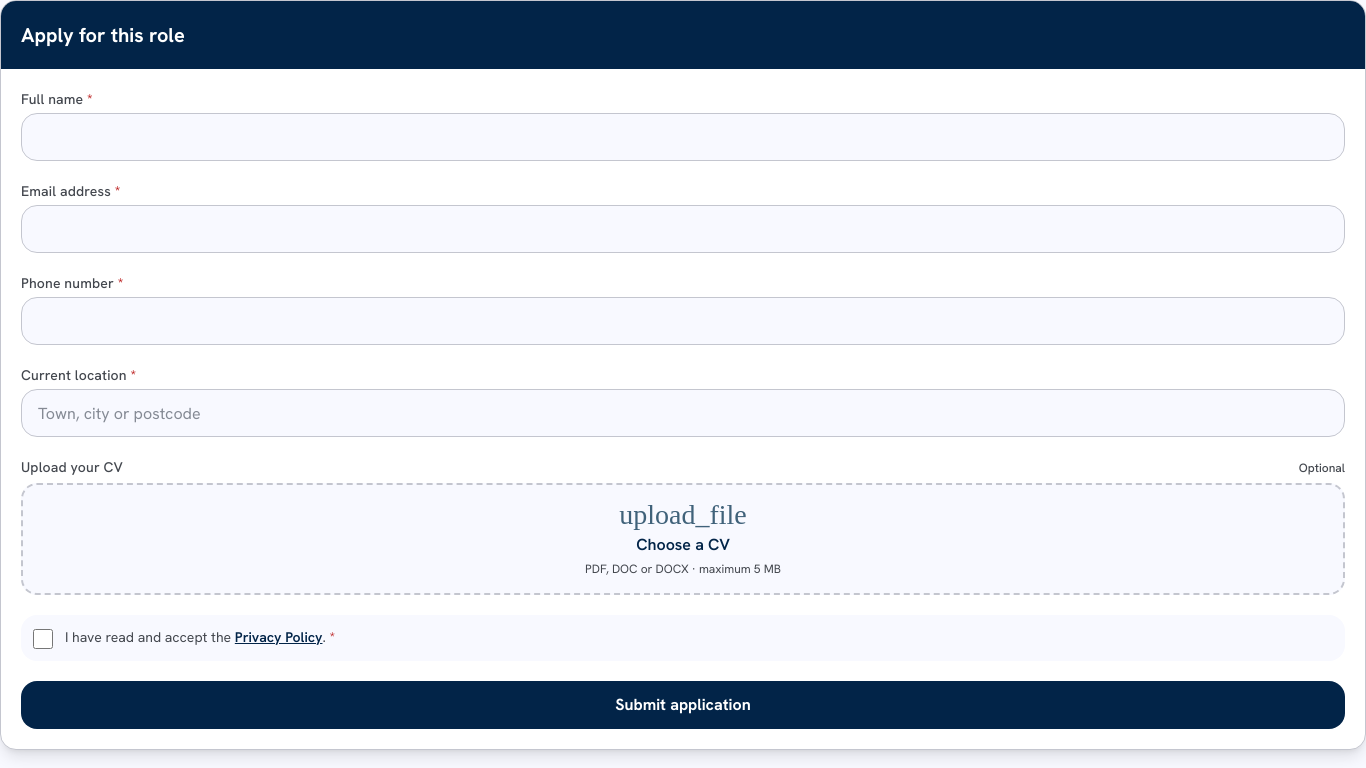
it: GuestApplicationForm › submits successfully and shows the reference confirmation
This screenshot has width=1366, height=768.
Type "Jane Doe" into the field labelled "Full name *" at (683, 137), box [21,113,1345,161]
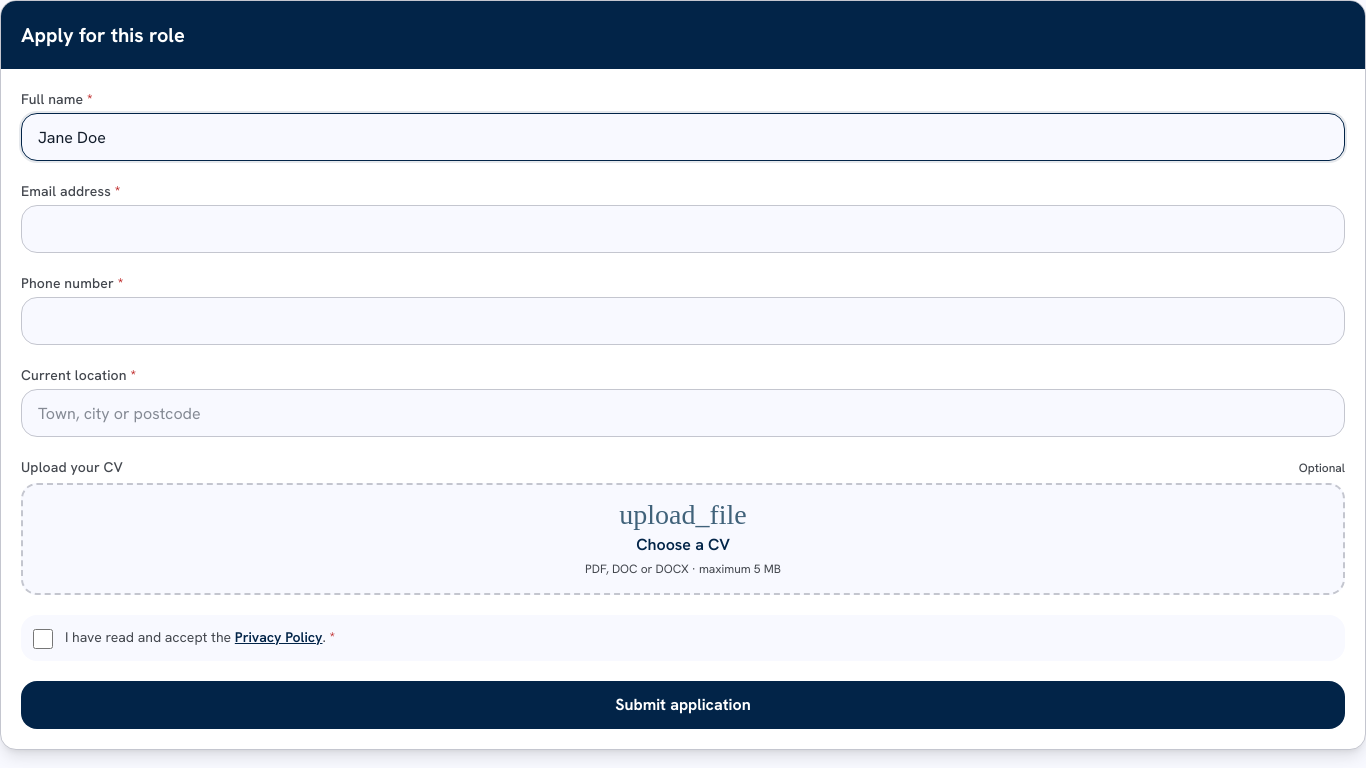
Type "jane@example.com" into the field labelled "Email address *" at (683, 229), box [21,205,1345,253]
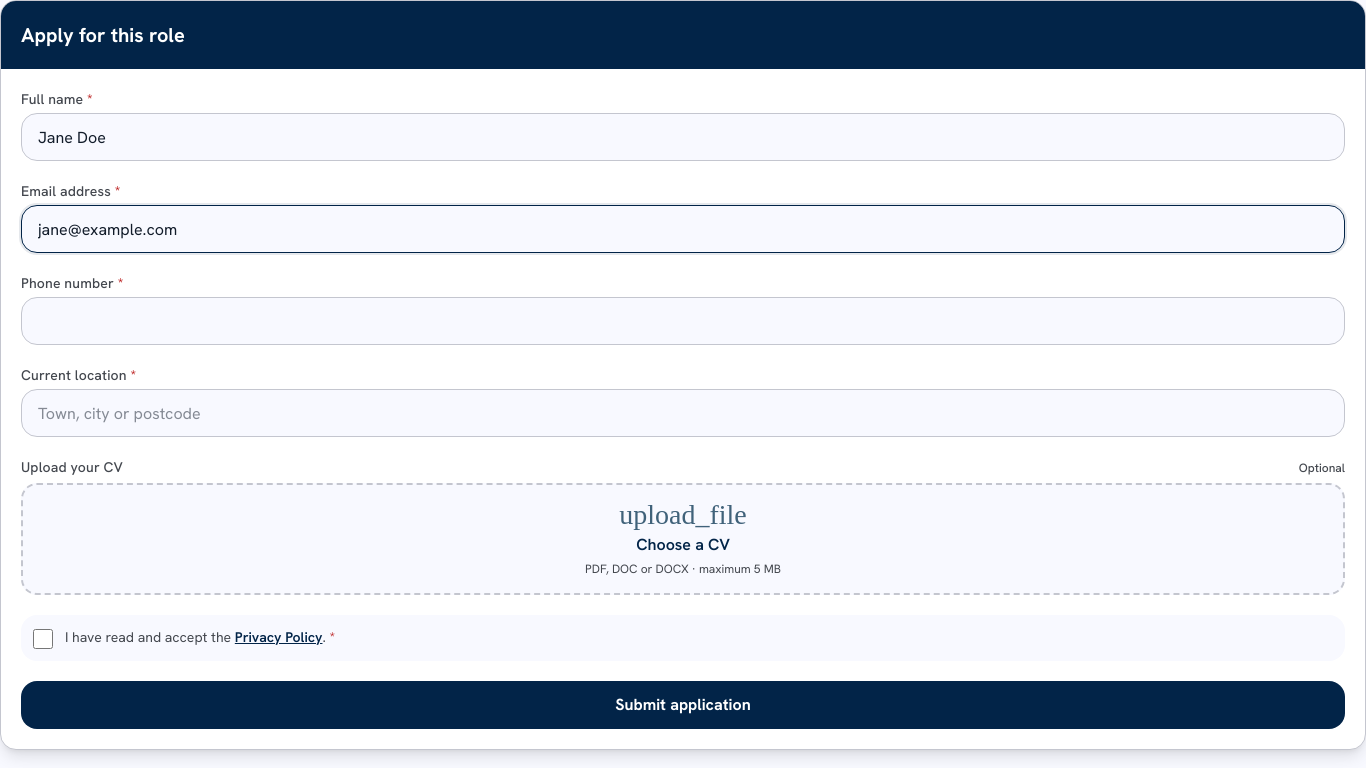
Type "07123456789" into the field labelled "Phone number *" at (683, 321), box [21,297,1345,345]
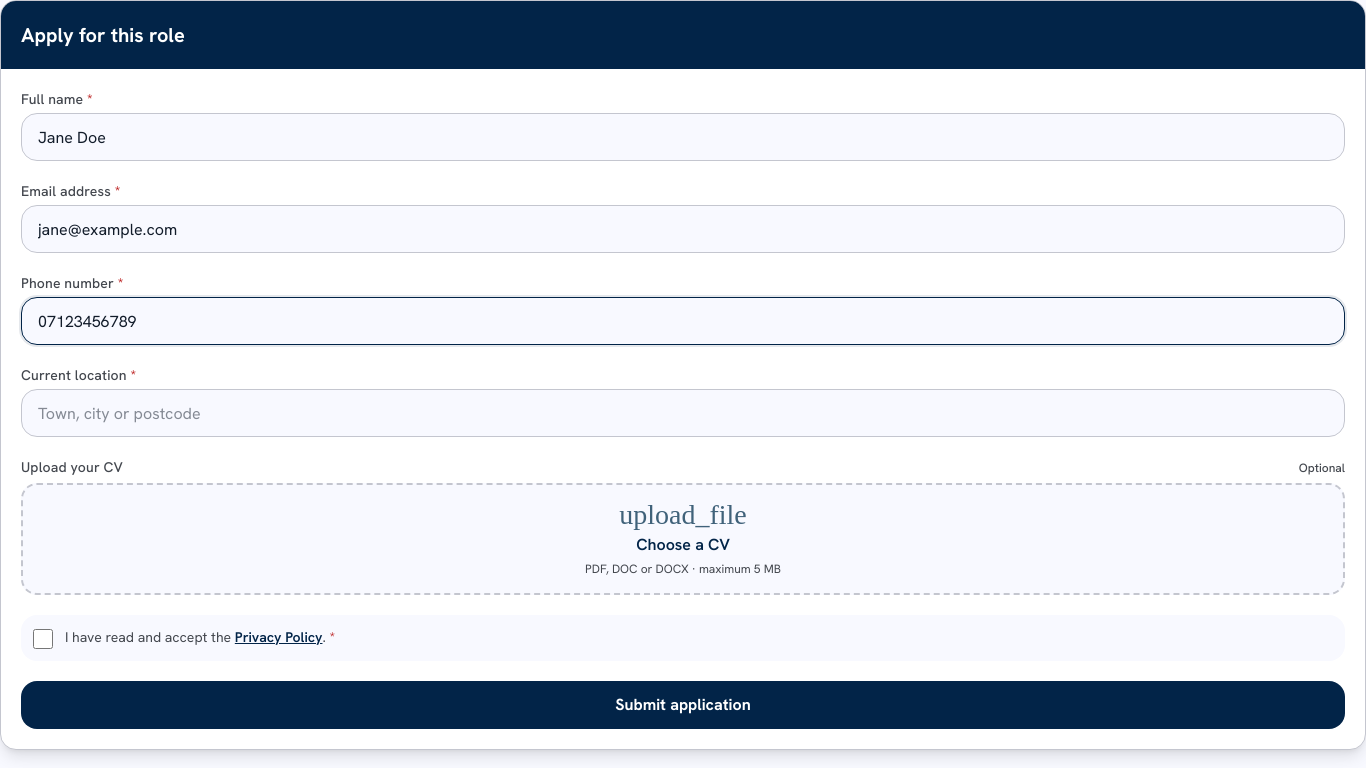
Type "Foston" into the field labelled "Current location *" at (683, 413), box [21,389,1345,437]
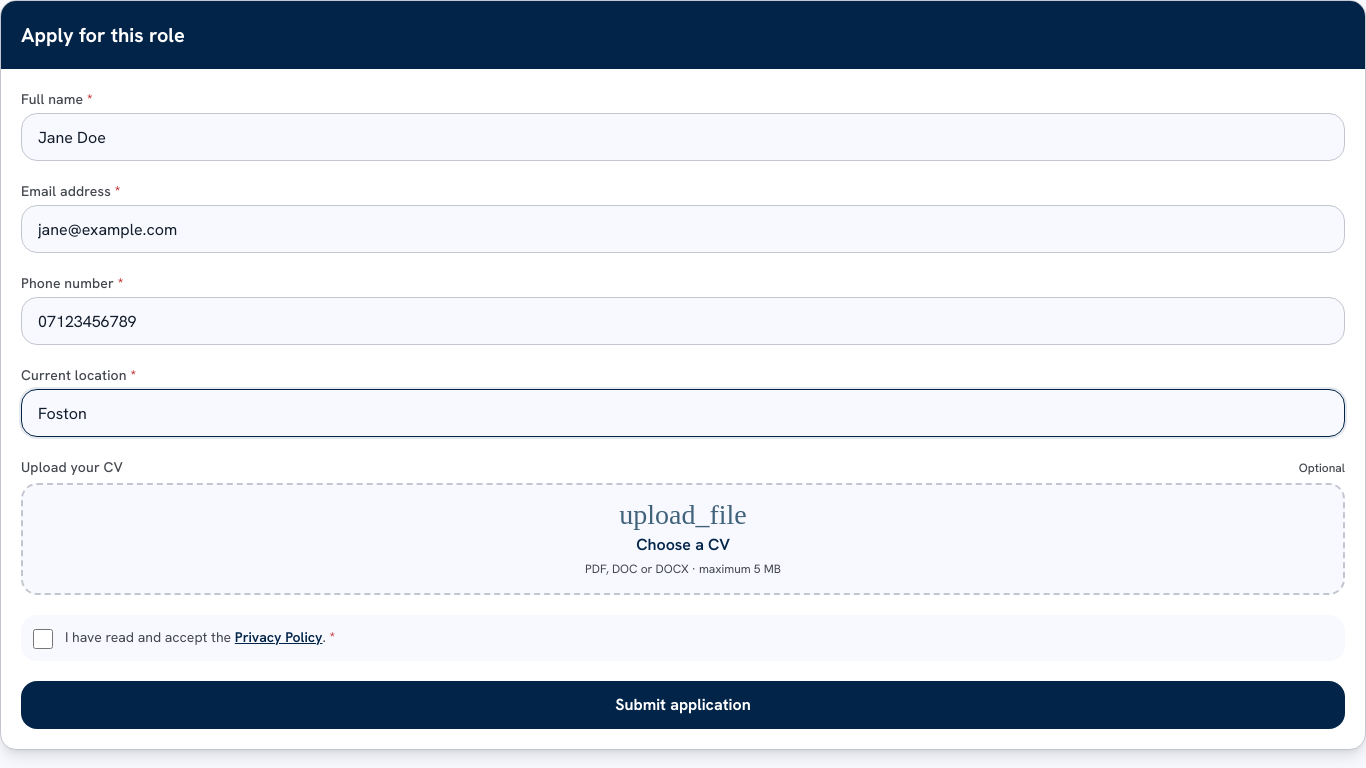
Click the checkbox labelled "I have read and accept the Privacy Policy . *" at (43, 639), box [33,629,53,649]
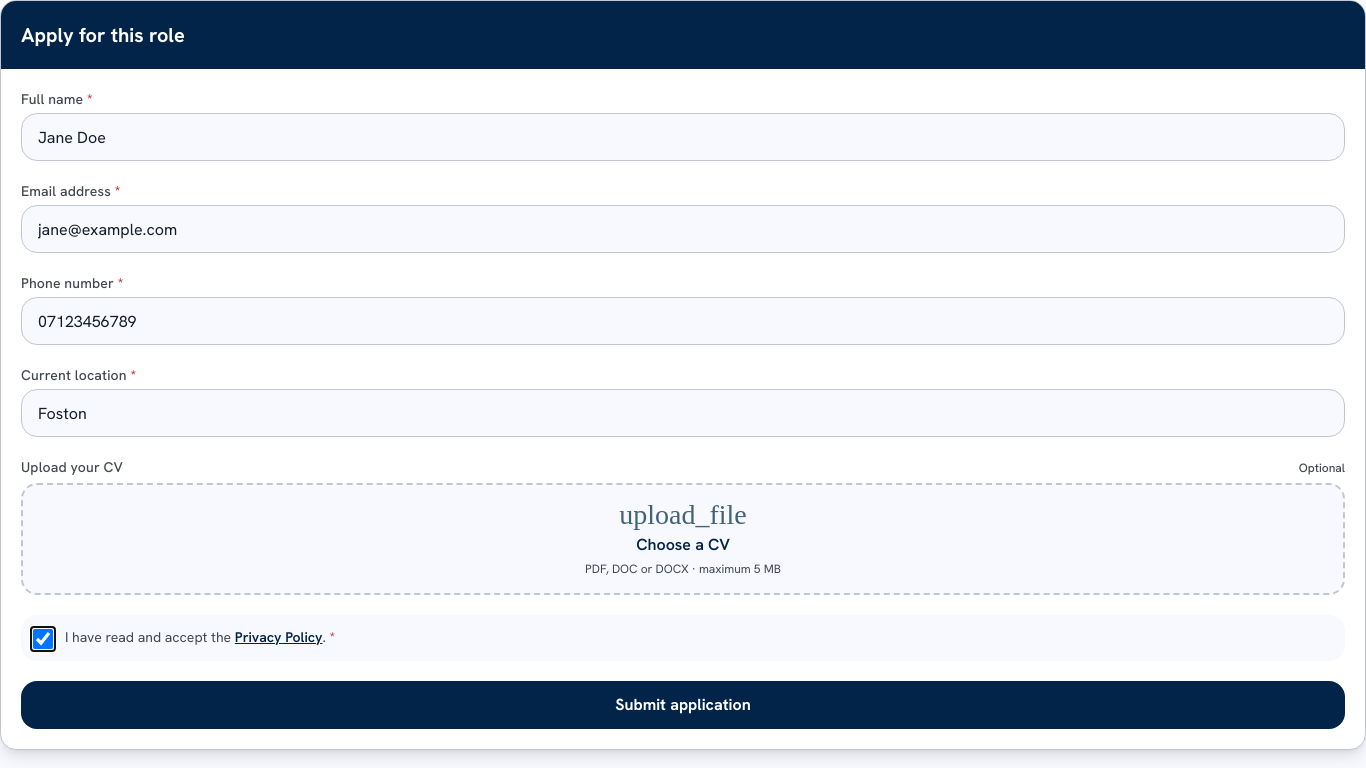
Click the button "Submit application" at (683, 705), box [21,681,1345,729]
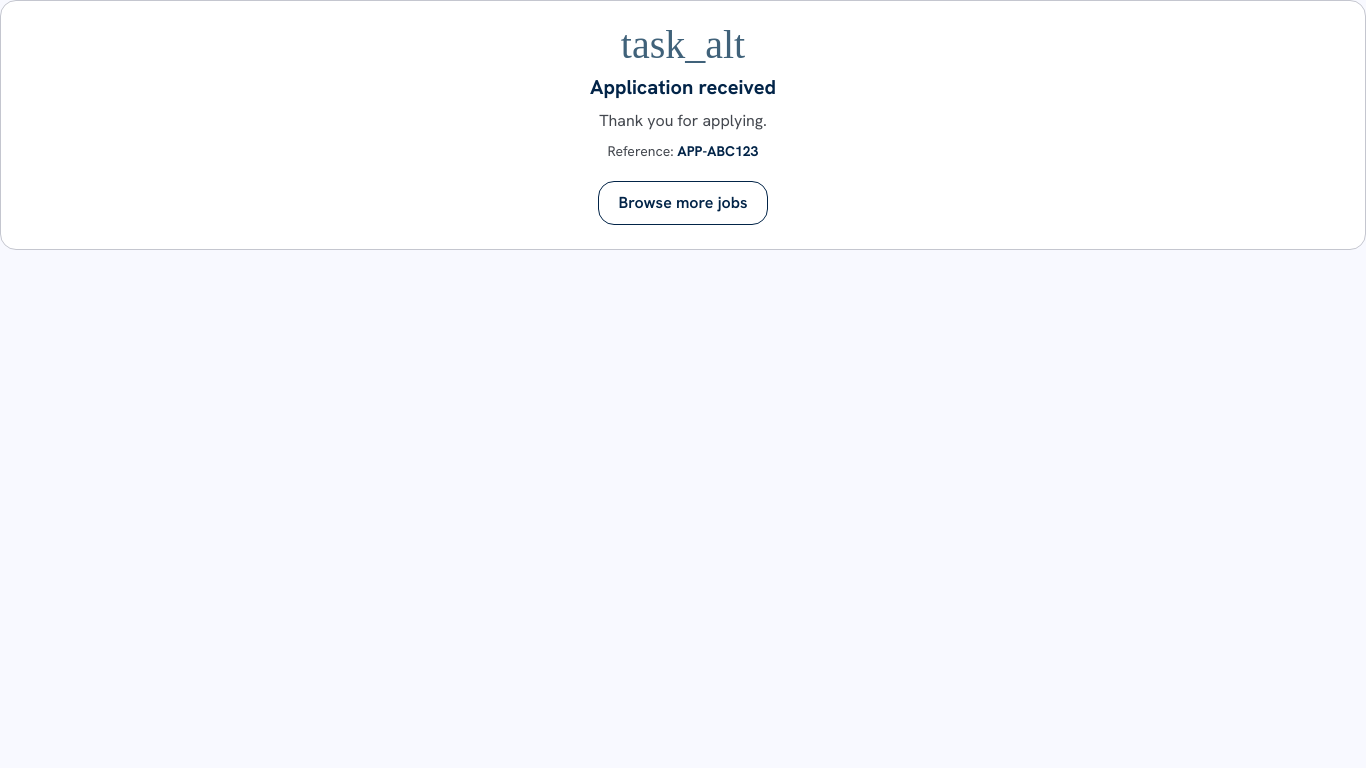
Now the heading "Application received" is shown, box [590,74,776,100]
Now the text "APP-ABC123" is shown, box [677,142,758,160]
